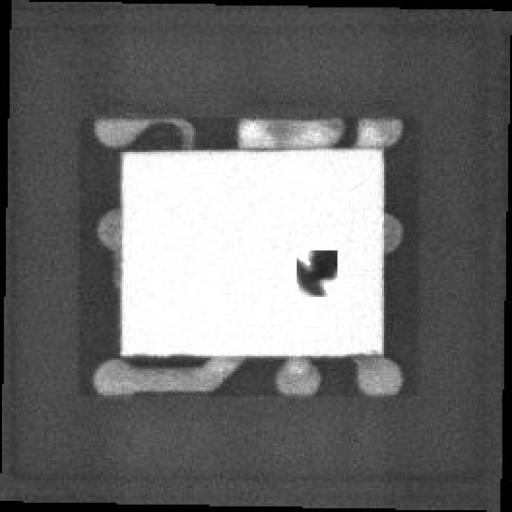DIE_INK: (295, 249, 339, 293)
